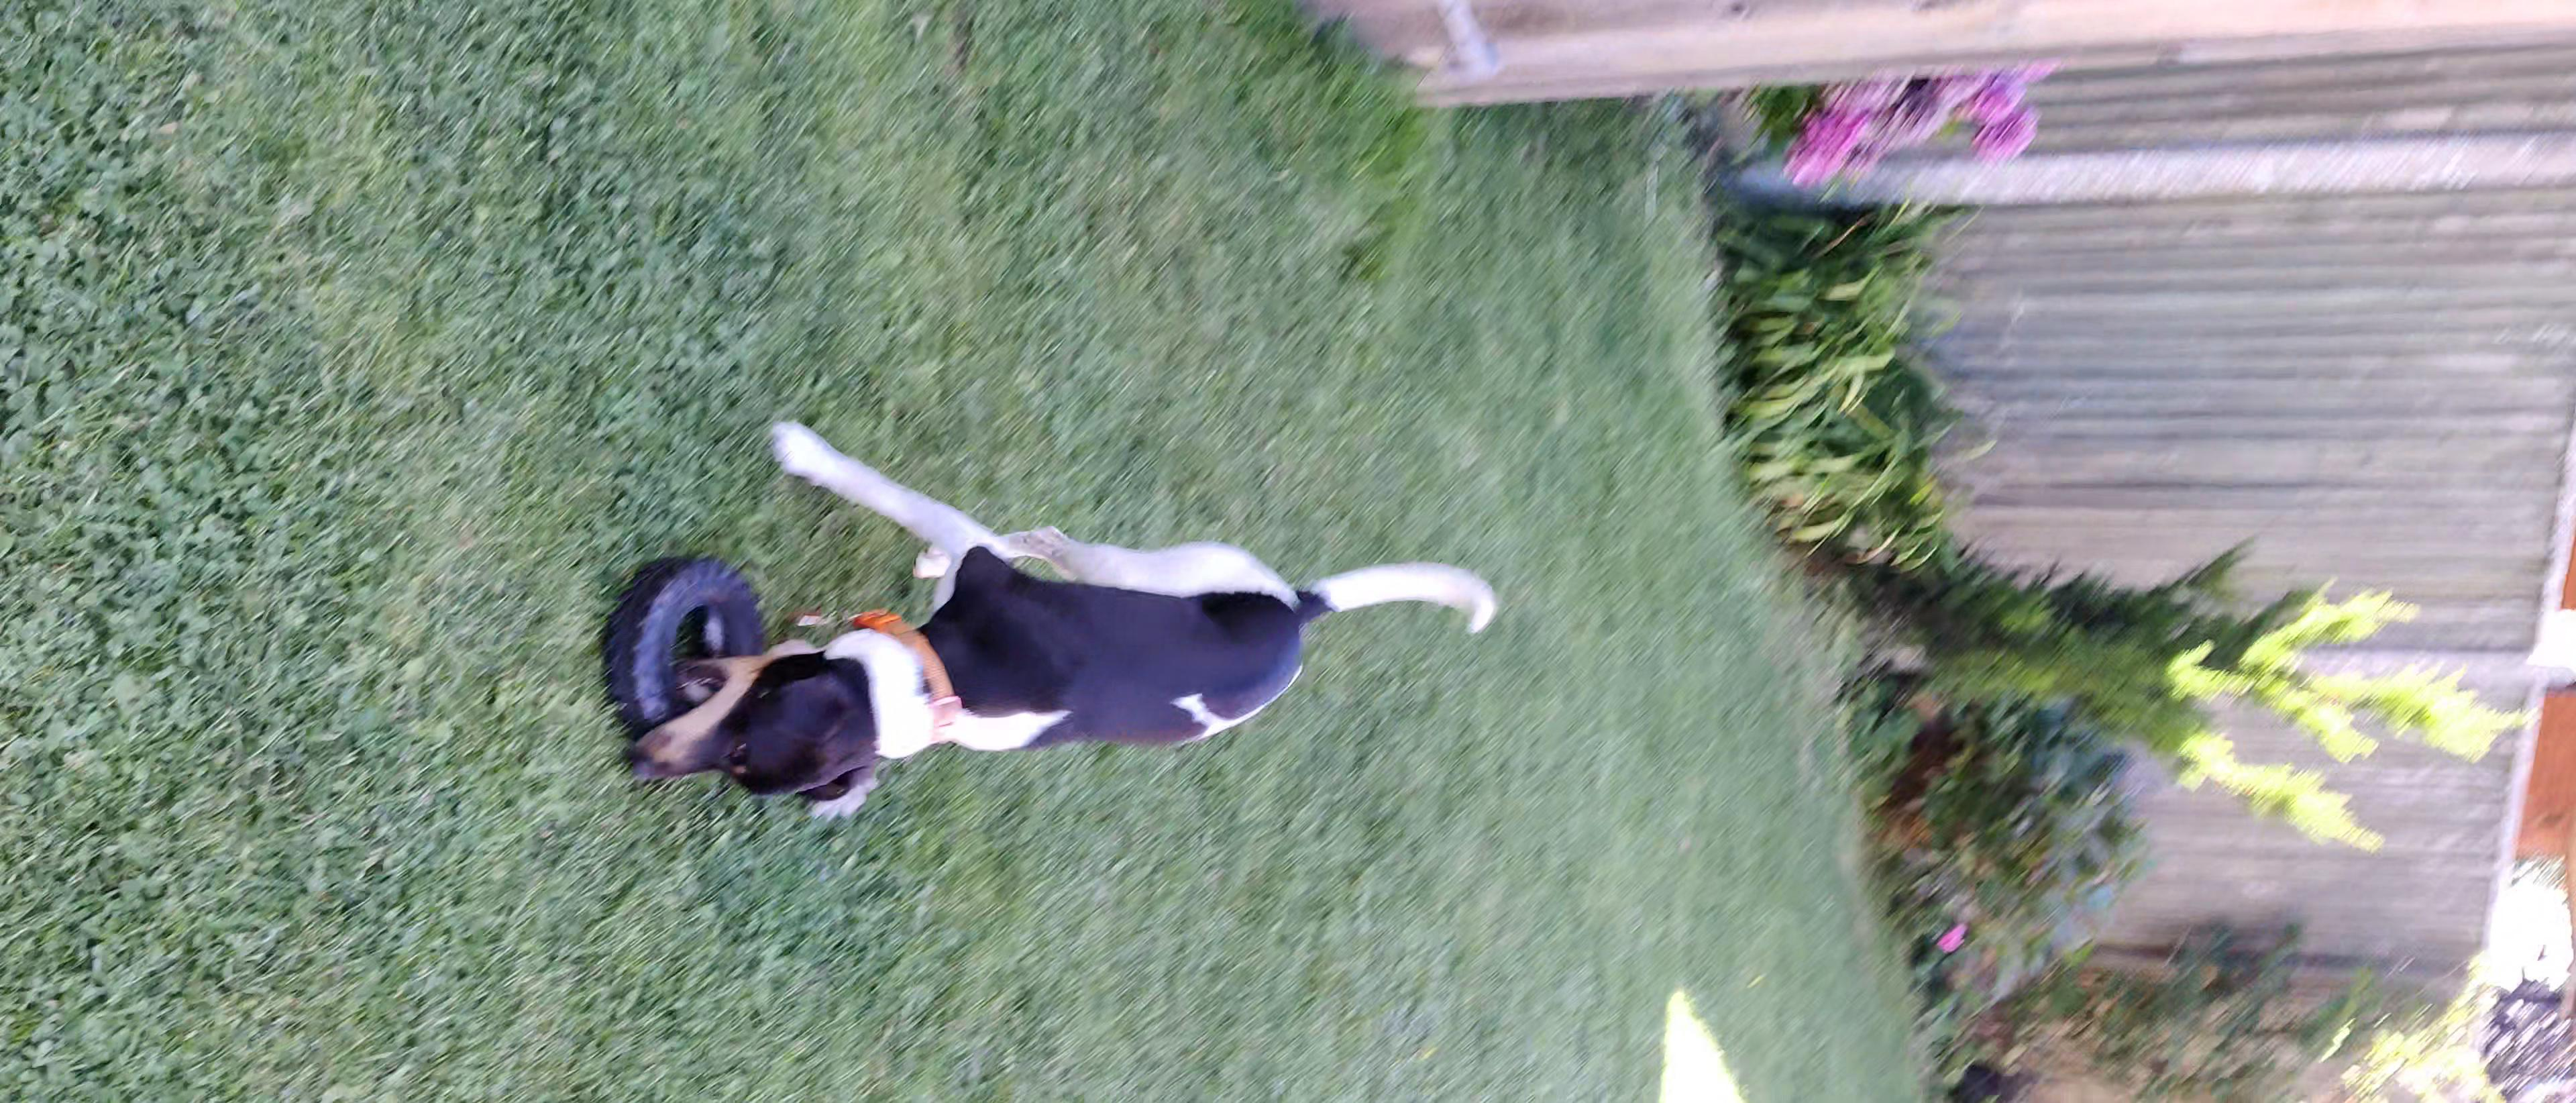Dog: (609, 390, 1521, 828)
